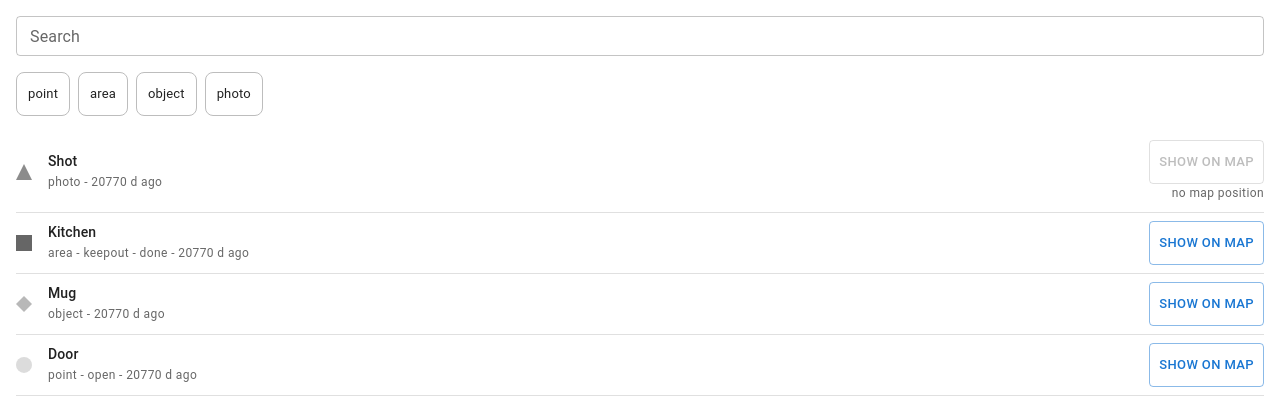
PoiTab › shows a filtered-empty state when nothing matches
This screenshot has width=1280, height=413.
Step 1. Type "zzz" into the field labelled "Search" → (640, 36), box x1=16 y1=16 x2=1264 y2=56
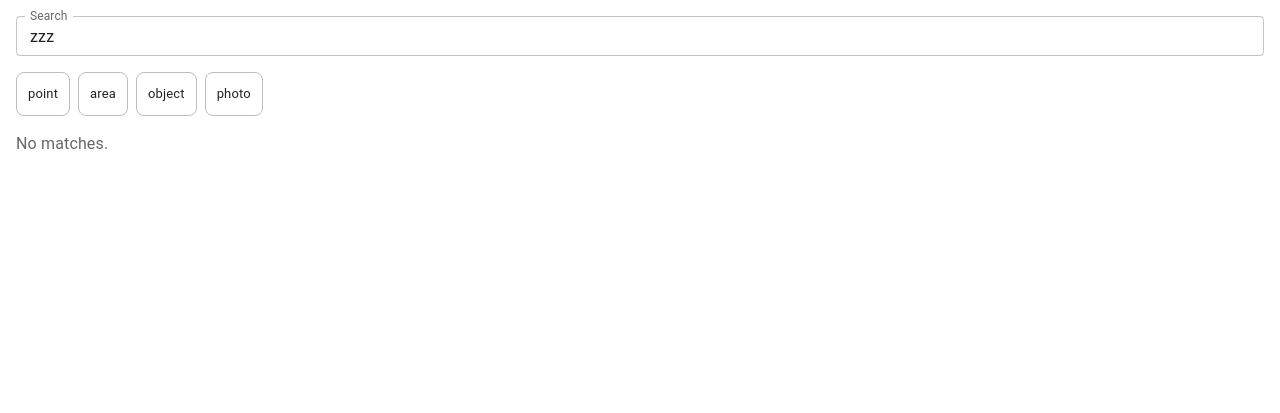
Check: no list items are shown
Check: the text "No matches." is shown, box x1=16 y1=134 x2=108 y2=153
